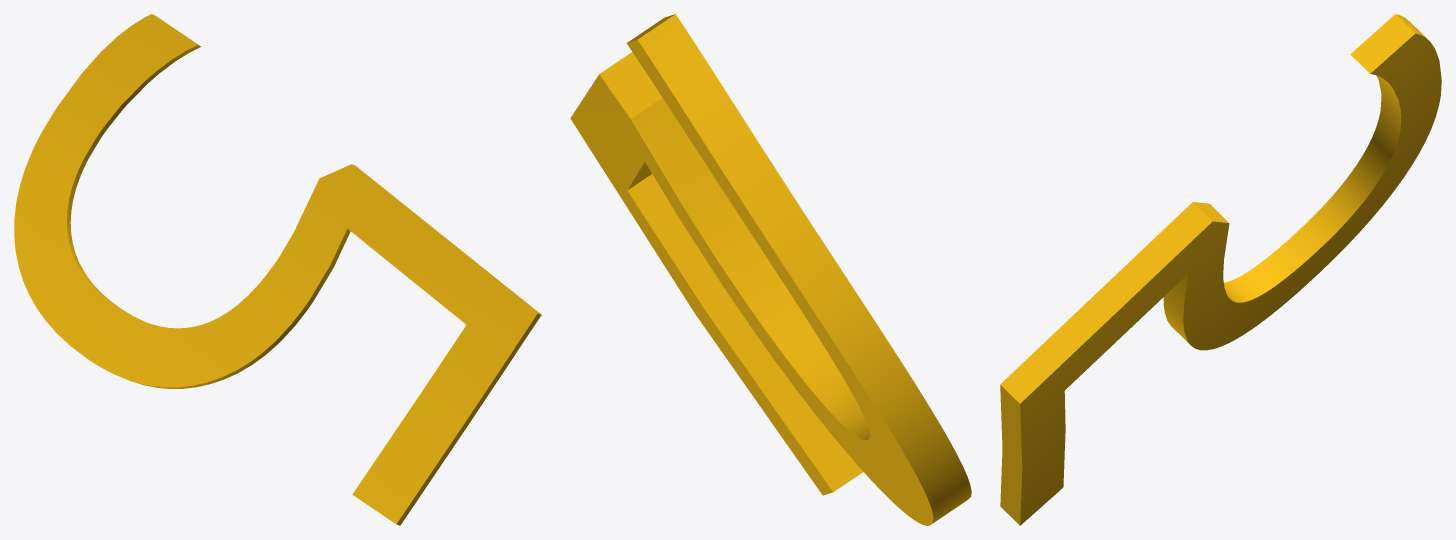
Rendered from Number_5.gltf.
3 renders of one model, left to right at view 1: azimuth 30°, elevation 25°; view 2: azimuth 150°, elevation 25°; view 3: azimuth 270°, elevation 25°, orthographic. The views are drawn at different scales.
Visible parts, largest first — view 1: Sub_1_Cell_3_3_Number_5; view 2: Sub_1_Cell_3_3_Number_5; view 3: Sub_1_Cell_3_3_Number_5.
Part boxes in pixels (x1,y1,x2,y2): Sub_1_Cell_3_3_Number_5: [14, 14, 541, 525]; Sub_1_Cell_3_3_Number_5: [570, 14, 971, 525]; Sub_1_Cell_3_3_Number_5: [1000, 14, 1441, 525].
Bounding box in the file's own units: 0.0209 × 0.0223 × 0.0192.
